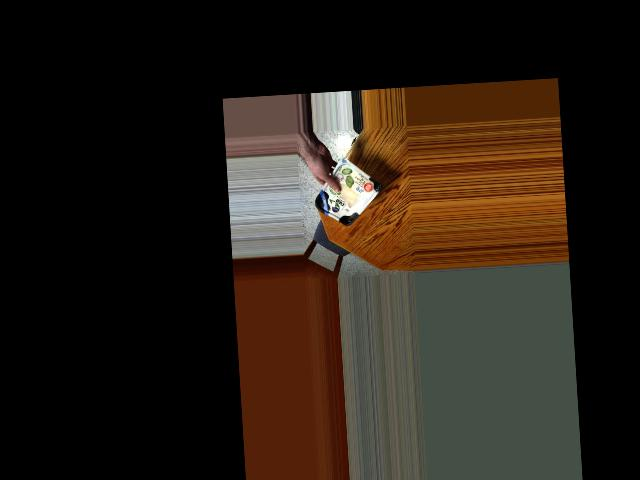cheese: (318, 167, 376, 228)
